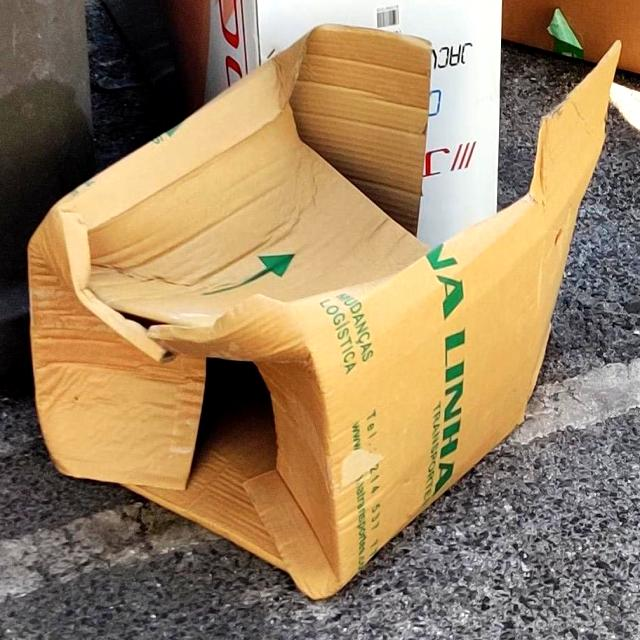Cardboard: (24, 22, 621, 600)
